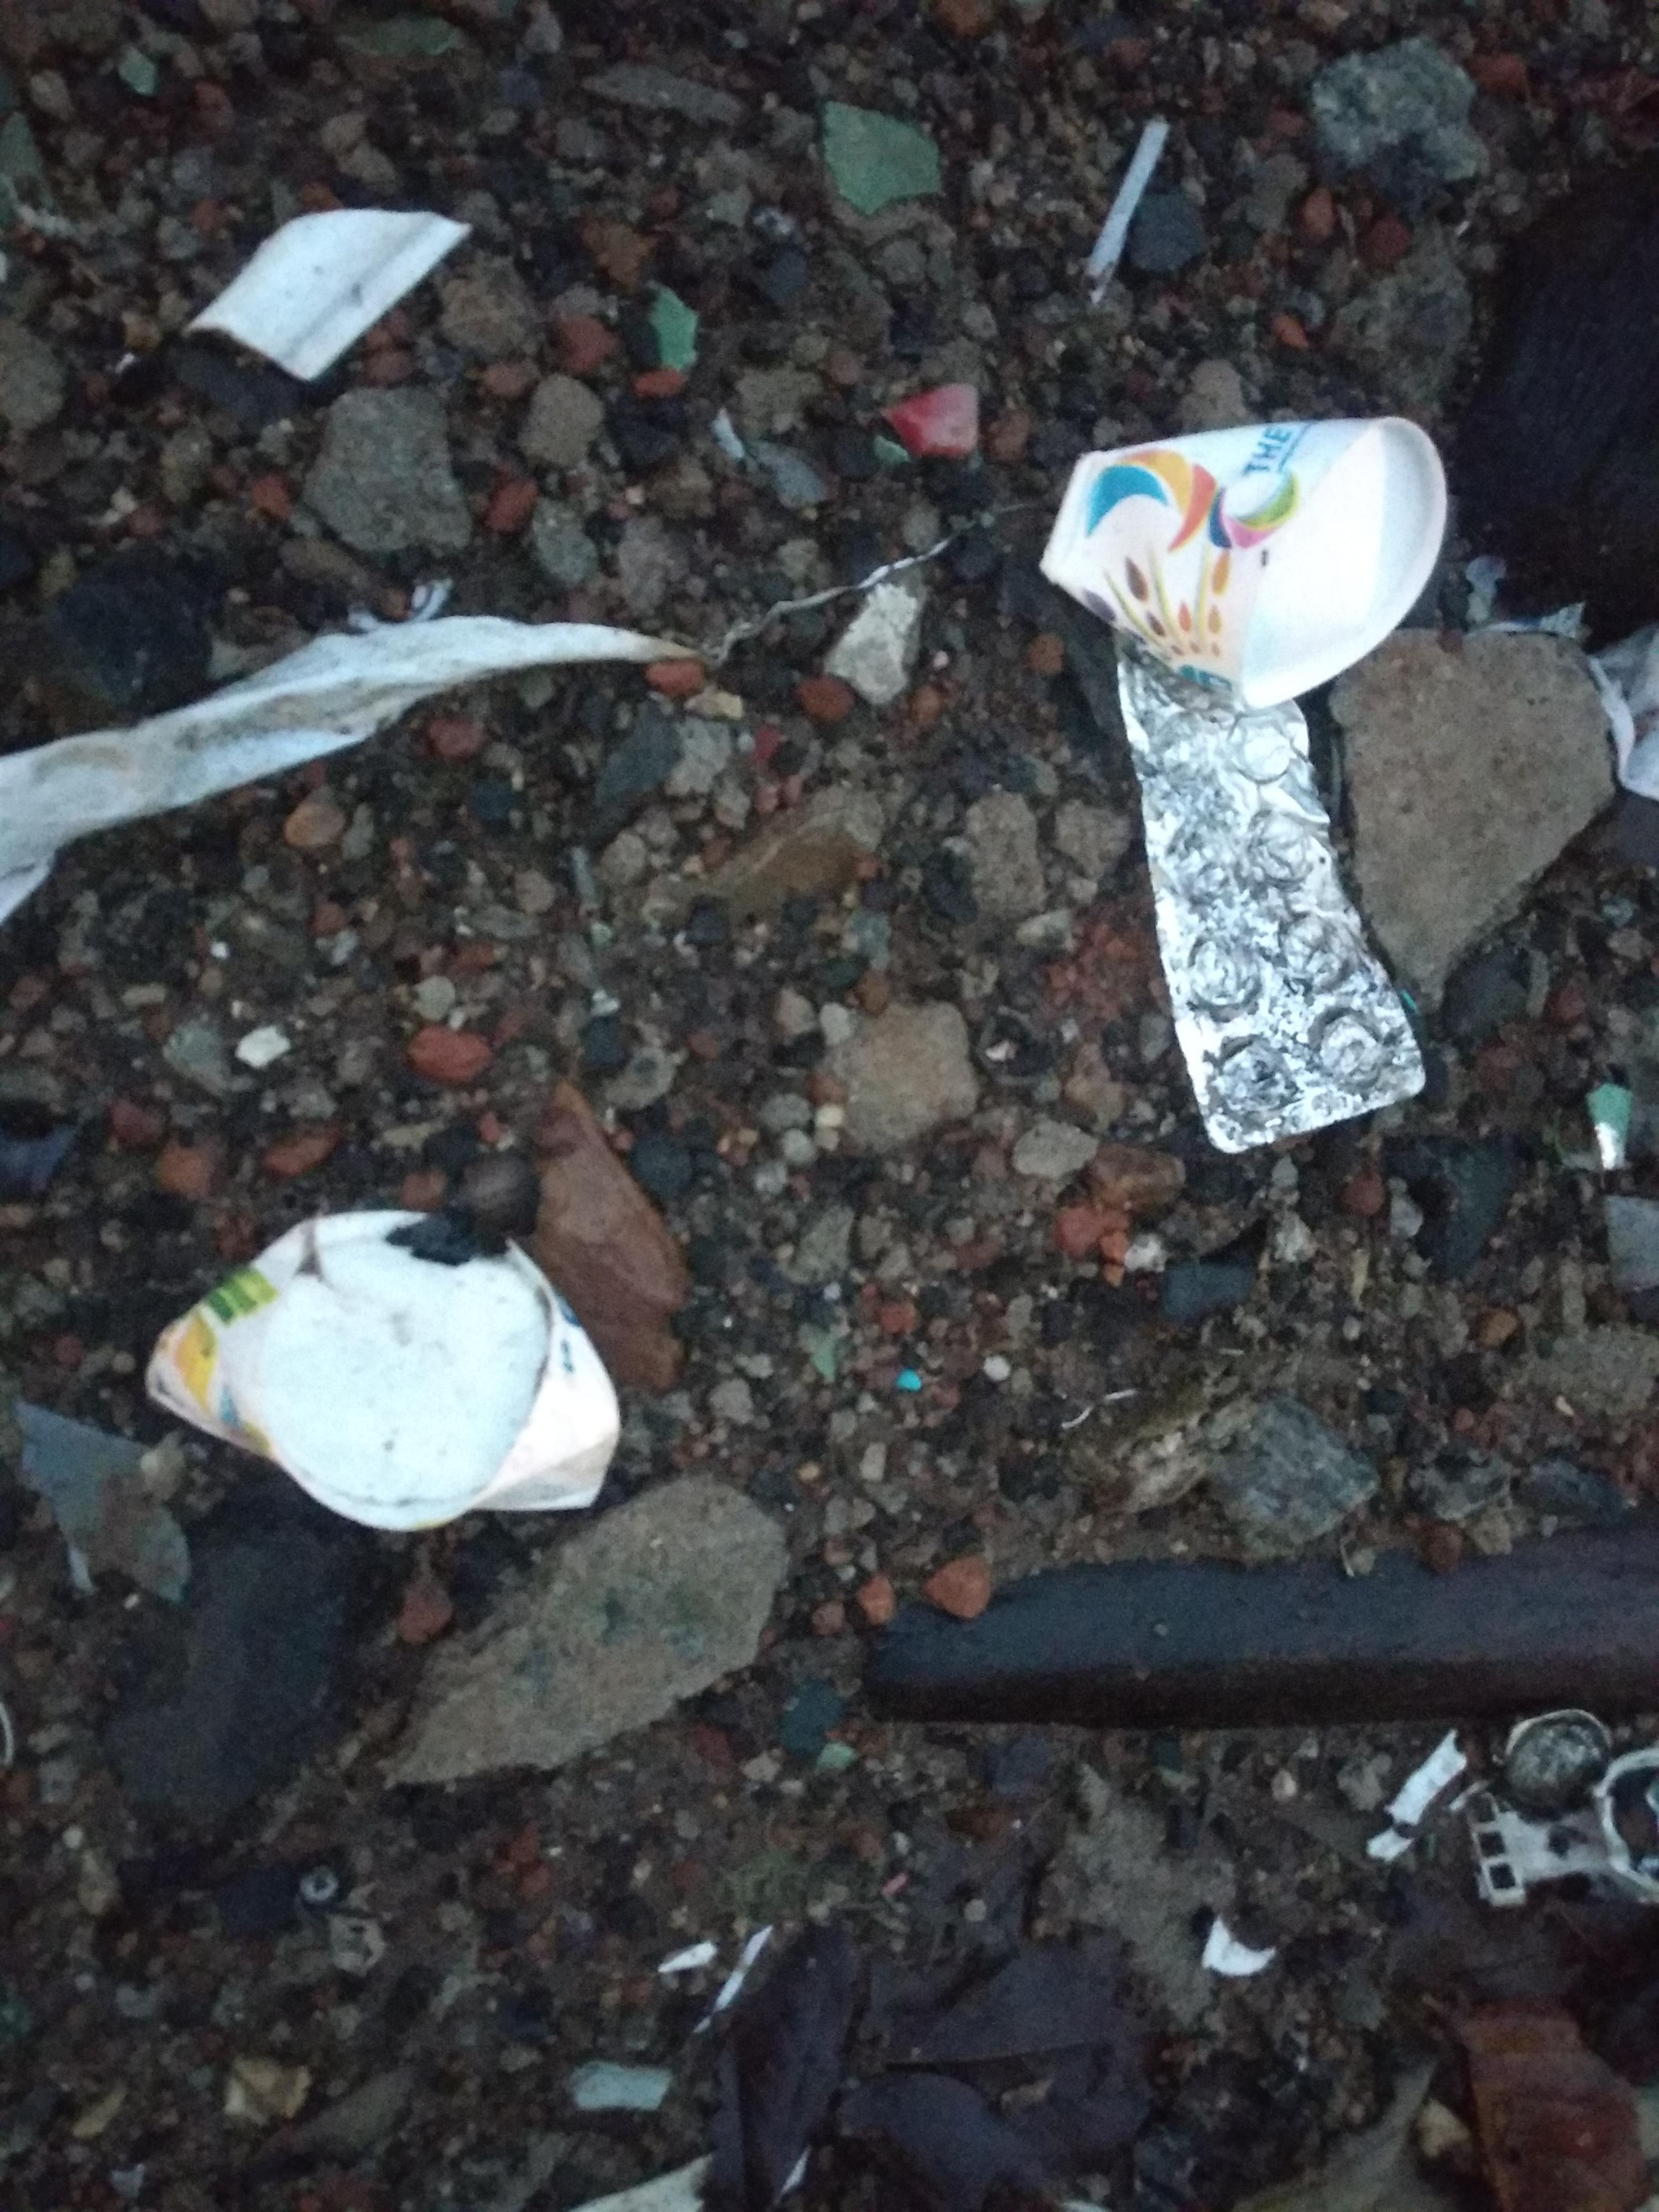organic: (0, 378, 1457, 1529)
